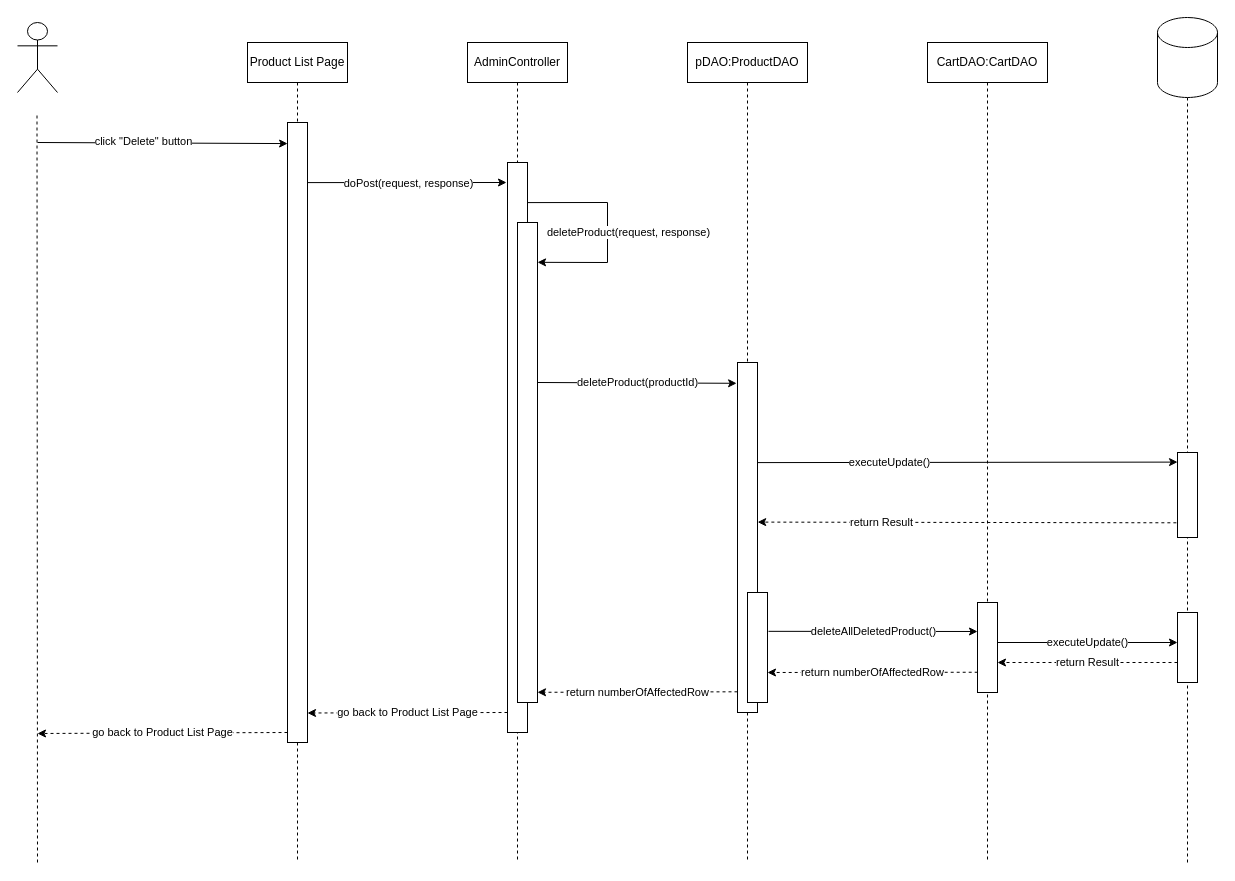
Image size: 1235x881. Some labels were removed from this diagram. Each missing label, with the centre of its shape:
"Admin" belongs at pixel 37 57.
"Database" belongs at pixel 1187 57.
